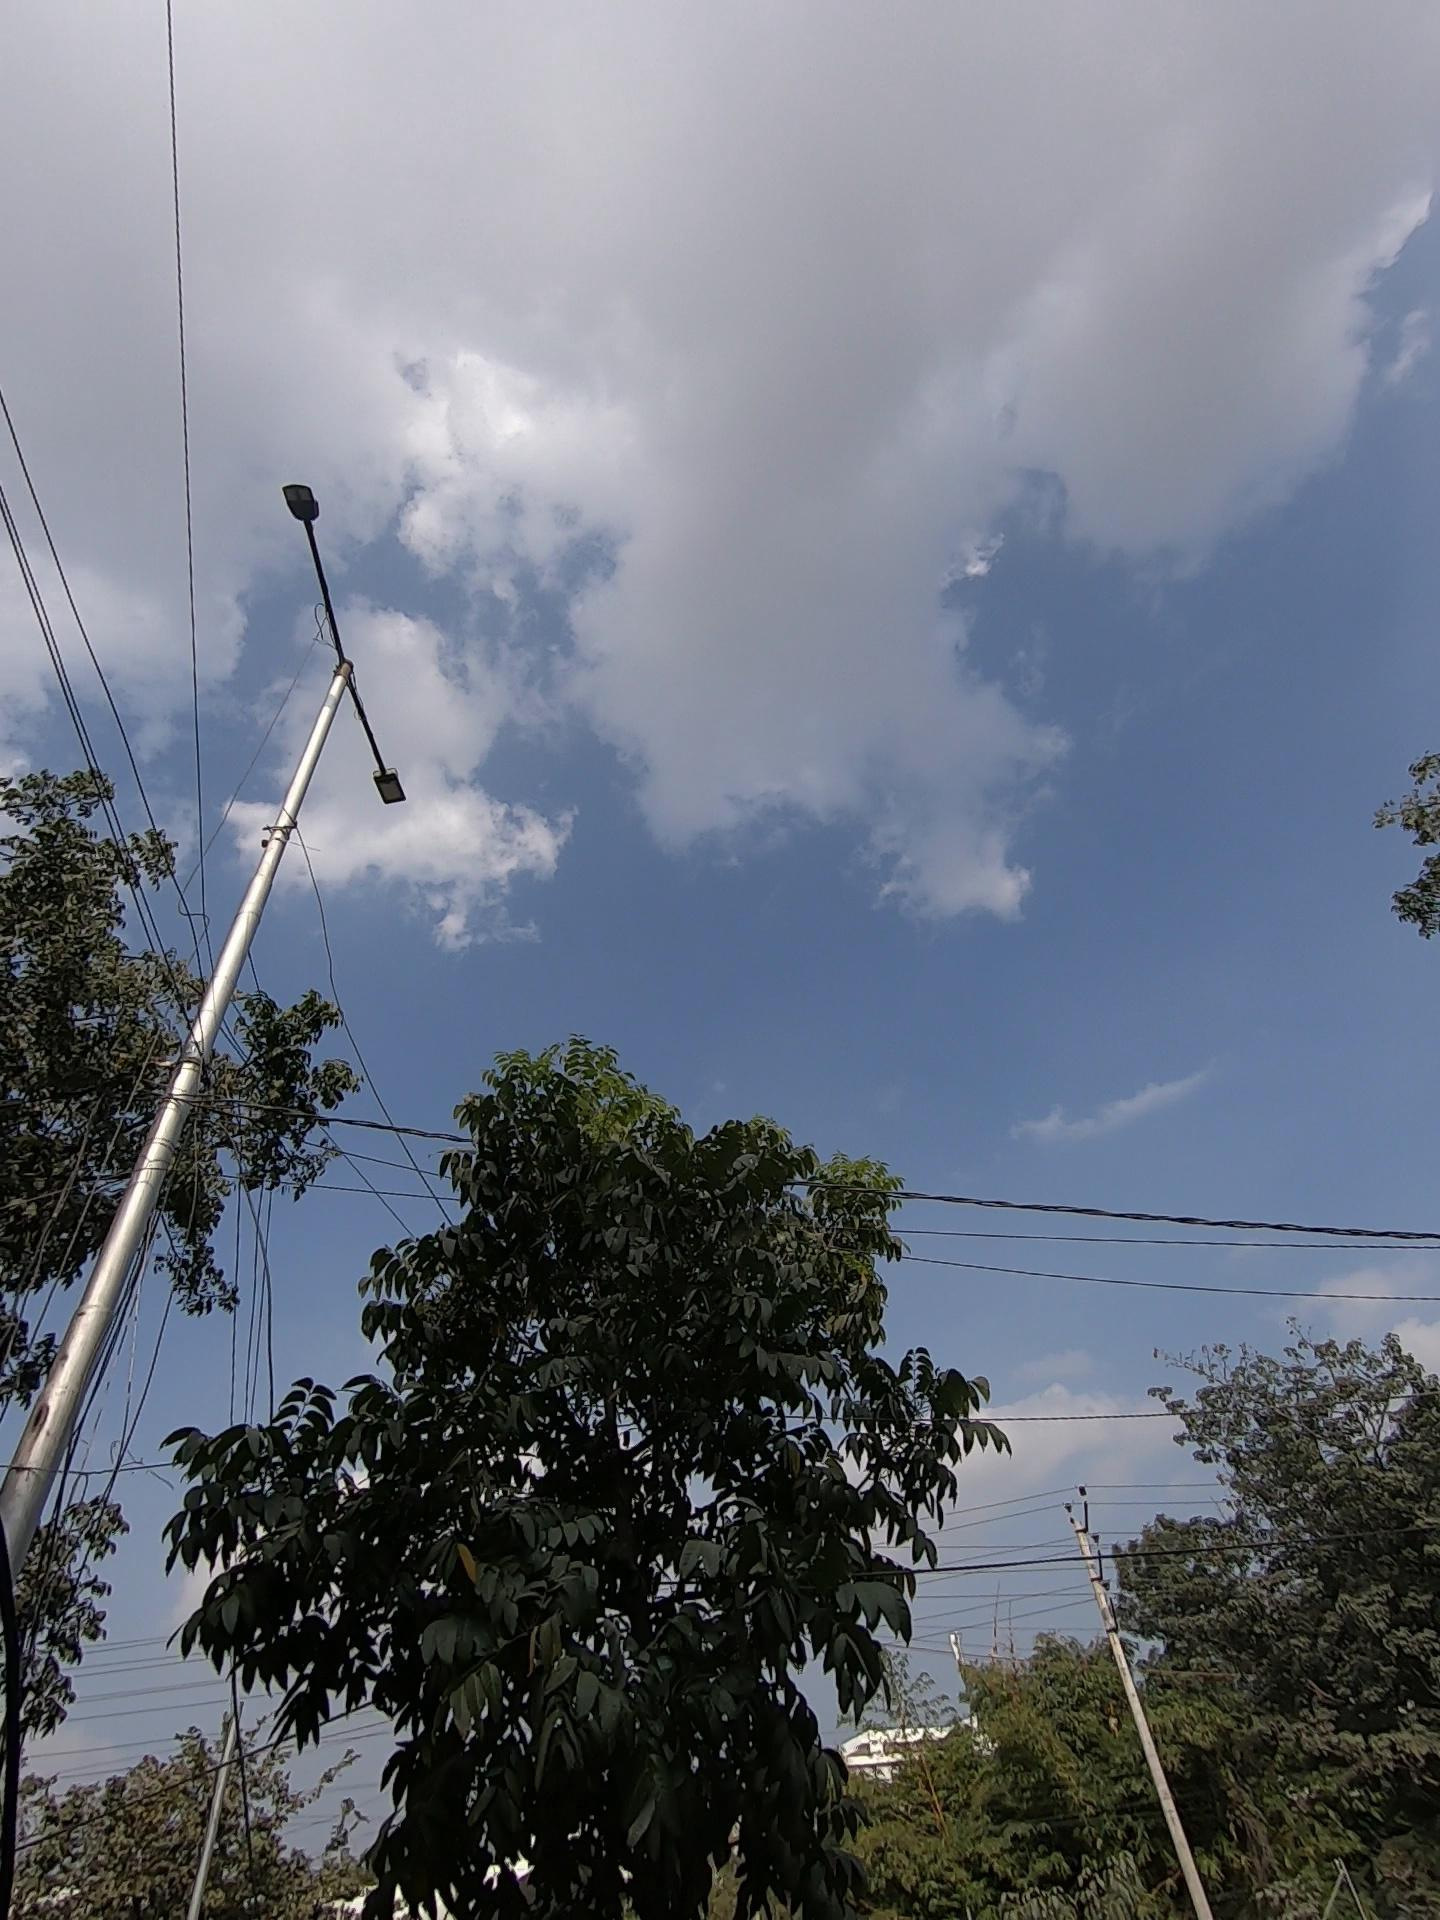off: (260, 426, 455, 860)
